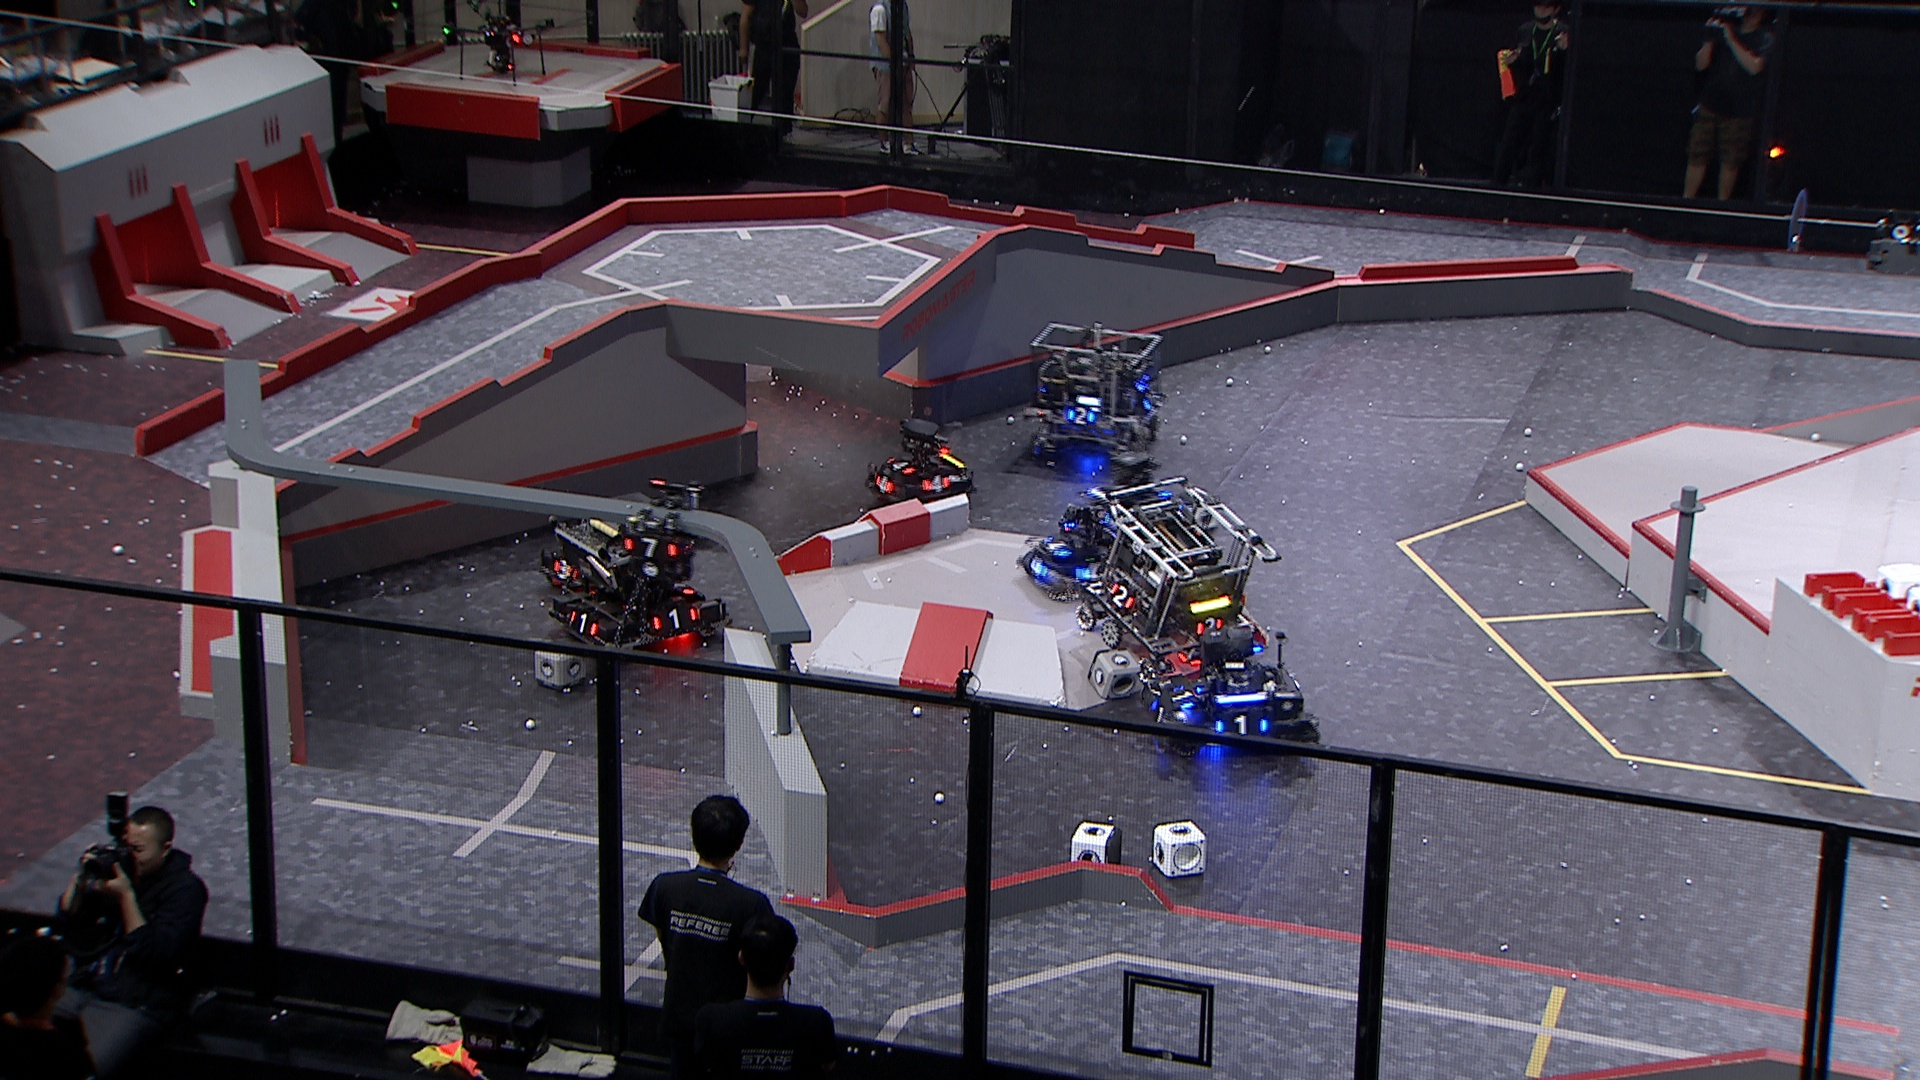armor: (617, 533, 680, 562), (1215, 713, 1271, 738), (650, 608, 698, 632), (564, 611, 600, 637), (1073, 560, 1106, 584), (1063, 406, 1097, 429), (1109, 583, 1135, 612), (1025, 555, 1054, 582), (1168, 684, 1196, 711), (1191, 617, 1224, 638), (884, 458, 916, 475), (920, 476, 949, 495), (553, 559, 575, 582), (1040, 535, 1069, 553), (669, 582, 698, 597), (1147, 700, 1167, 723), (874, 475, 894, 495), (1139, 392, 1159, 411)
car: (1073, 473, 1276, 680), (543, 495, 727, 661), (1135, 622, 1323, 764), (1019, 320, 1167, 467), (861, 417, 978, 509), (1017, 508, 1122, 603), (1077, 450, 1185, 535), (537, 517, 636, 600)
watcher: (609, 479, 707, 585)
